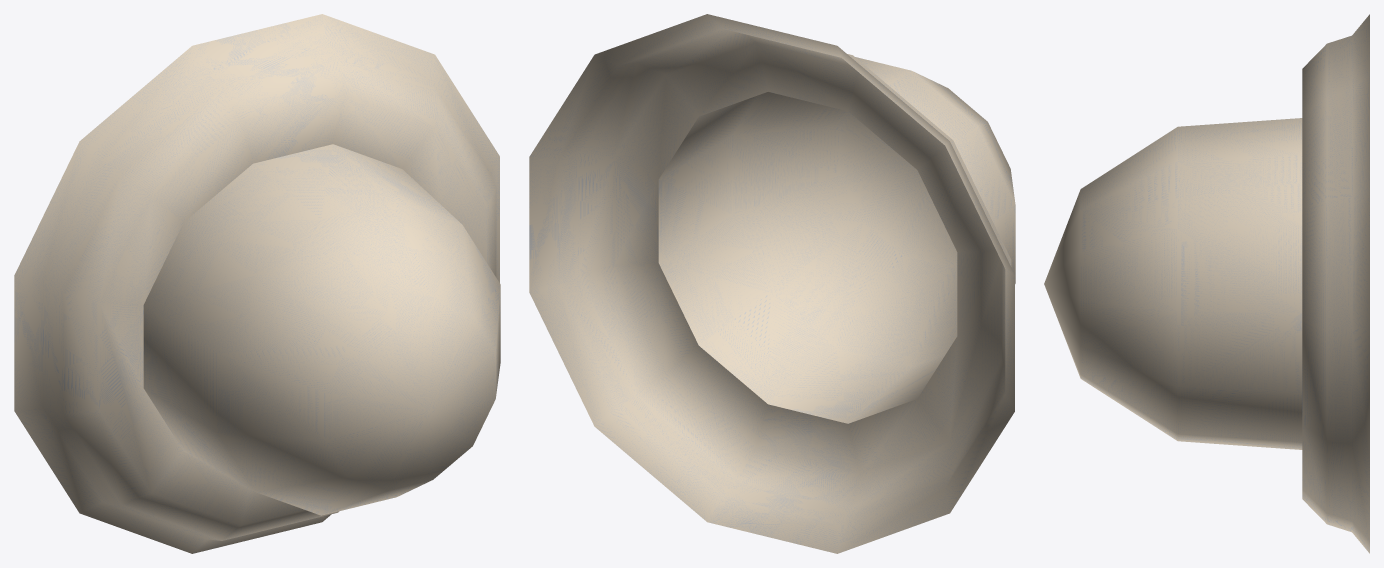
The model's file is original-71.obj.
The picture shows the model from 3 angles, left to right: view 1: azimuth 30°, elevation 25°; view 2: azimuth 150°, elevation 25°; view 3: azimuth 270°, elevation 25°; orthographic projection. The views are drawn at different scales.
Parts seen in each view (by area): view 1: mesh39/mesh39-geometry#mesh39-geometry; view 2: mesh39/mesh39-geometry#mesh39-geometry; view 3: mesh39/mesh39-geometry#mesh39-geometry.
Part boxes in pixels (<box>): mesh39/mesh39-geometry#mesh39-geometry: <box>14,14,500,553</box>; mesh39/mesh39-geometry#mesh39-geometry: <box>529,14,1015,553</box>; mesh39/mesh39-geometry#mesh39-geometry: <box>1044,14,1369,553</box>.
Bounding box in the file's own units: 0.0188 × 0.0188 × 0.0116.
